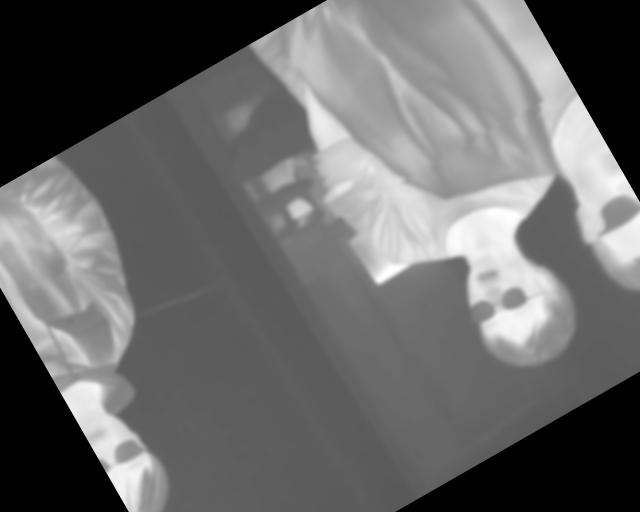face: (444, 230, 596, 390), (79, 398, 184, 512)
